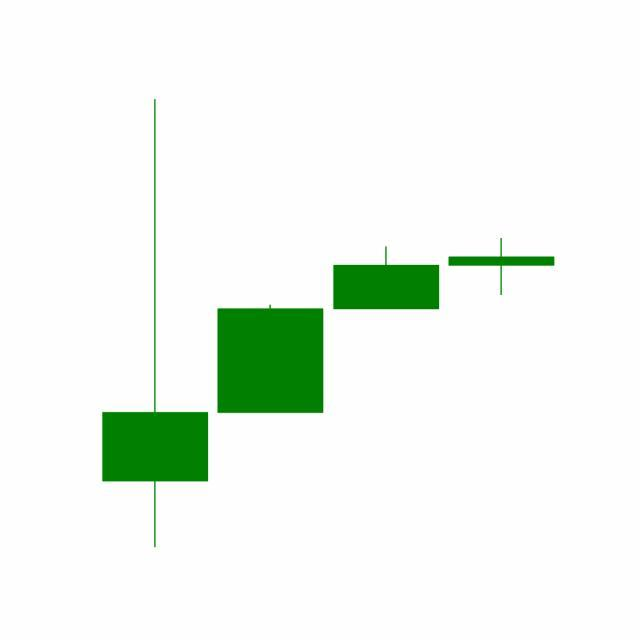Spinning Top: (444, 239, 560, 298)
